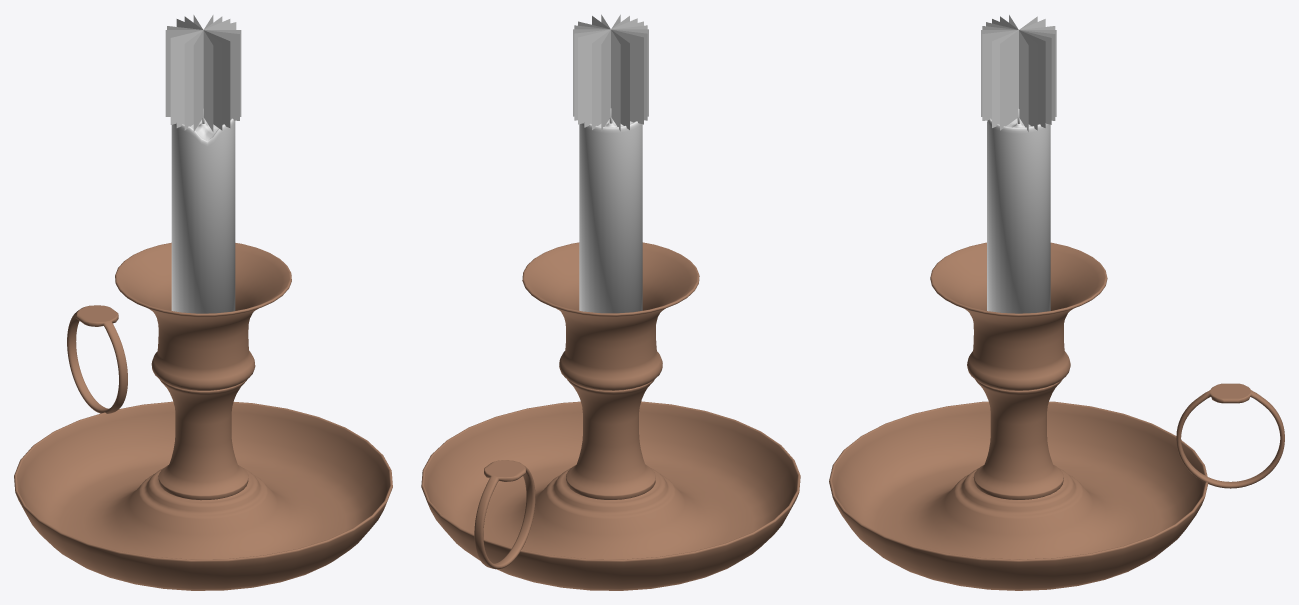
The model's file is uploads_files_3664014_candle+holder.fbx.
3 views of the same model, side by side, from view 1: azimuth 30°, elevation 25°; view 2: azimuth 150°, elevation 25°; view 3: azimuth 270°, elevation 25° (orthographic).
Parts seen in each view (by area): view 1: Circle, Plane.038; view 2: Circle, Plane.038; view 3: Circle, Plane.038.
Boxes of the visible parts, x1,y1,x2,y2 form: Circle: (14,118,392,590); Plane.038: (165,15,241,131); Circle: (421,119,800,590); Plane.038: (573,14,648,131); Circle: (829,118,1284,590); Plane.038: (981,15,1056,131).
Size of the model in its own units: 12.32 by 17.75 by 14.8.
